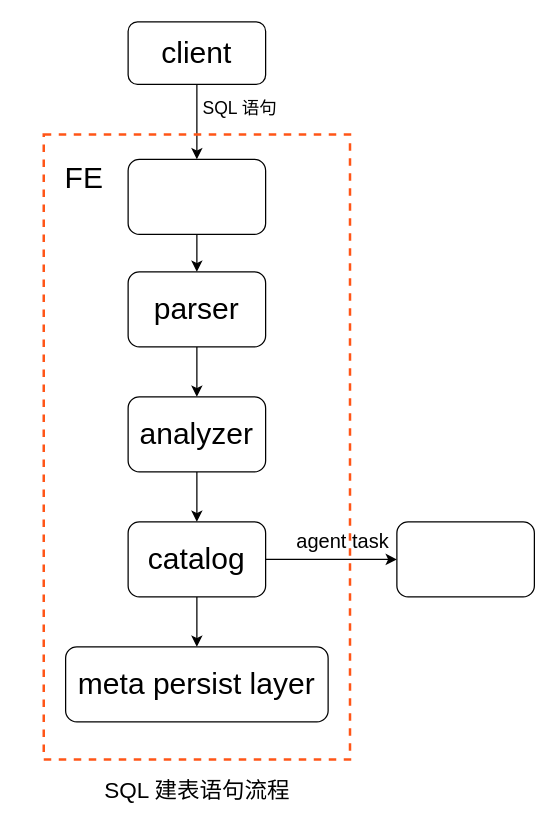
Image size: 556x831. Some labels were removed from this diagram. The box of each missing label's shape, as (x1, y1, x2, y2) in pixels:
BE: (396, 521, 534, 597)
MySQL Server: (127, 158, 266, 234)
